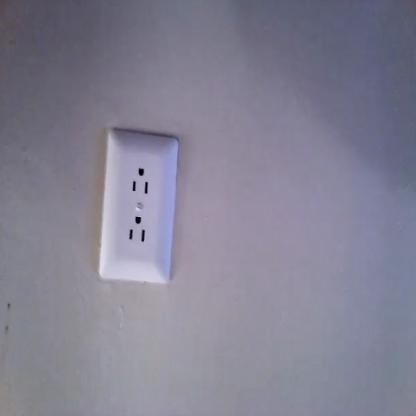OUTLET: (98, 133, 179, 284)
